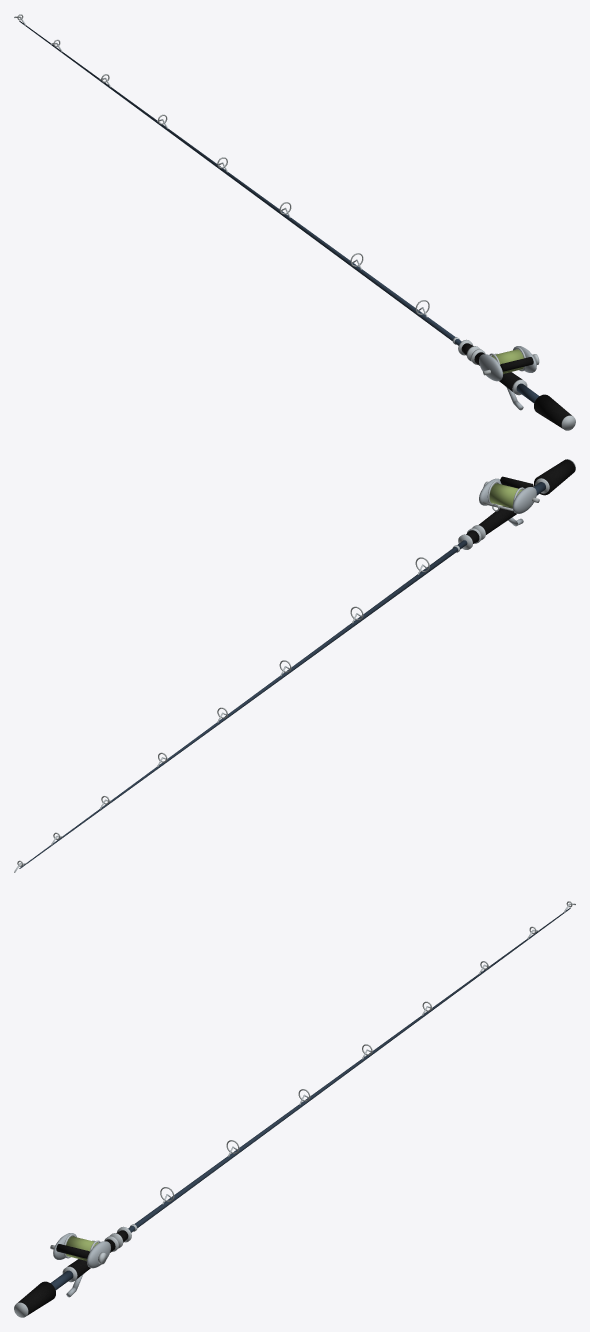
File: reed_lure.glb
3 renders of one model, top to bottom at view 1: azimuth 30°, elevation 25°; view 2: azimuth 150°, elevation 25°; view 3: azimuth 330°, elevation 25°, orthographic.
Parts seen in each view (by area): view 1: Fast action blank.005; view 2: Fast action blank.005; view 3: Fast action blank.005.
Boxes of the visible parts, x1,y1,x2,y2 form: Fast action blank.005: (14, 14, 575, 430); Fast action blank.005: (14, 459, 575, 872); Fast action blank.005: (14, 901, 575, 1317).
Bounding box in the file's own units: 0.106 × 0.0943 × 1.94.
6 materials, 1 textured.
